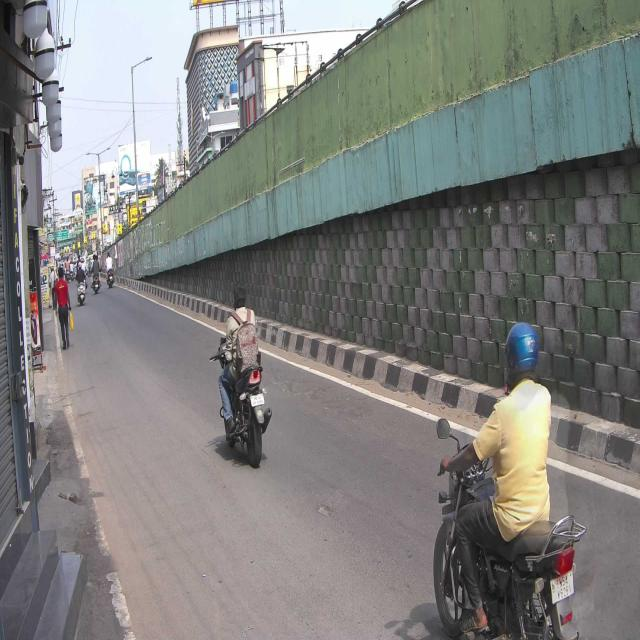single_rider: (431, 314, 579, 640), (212, 280, 273, 470)
